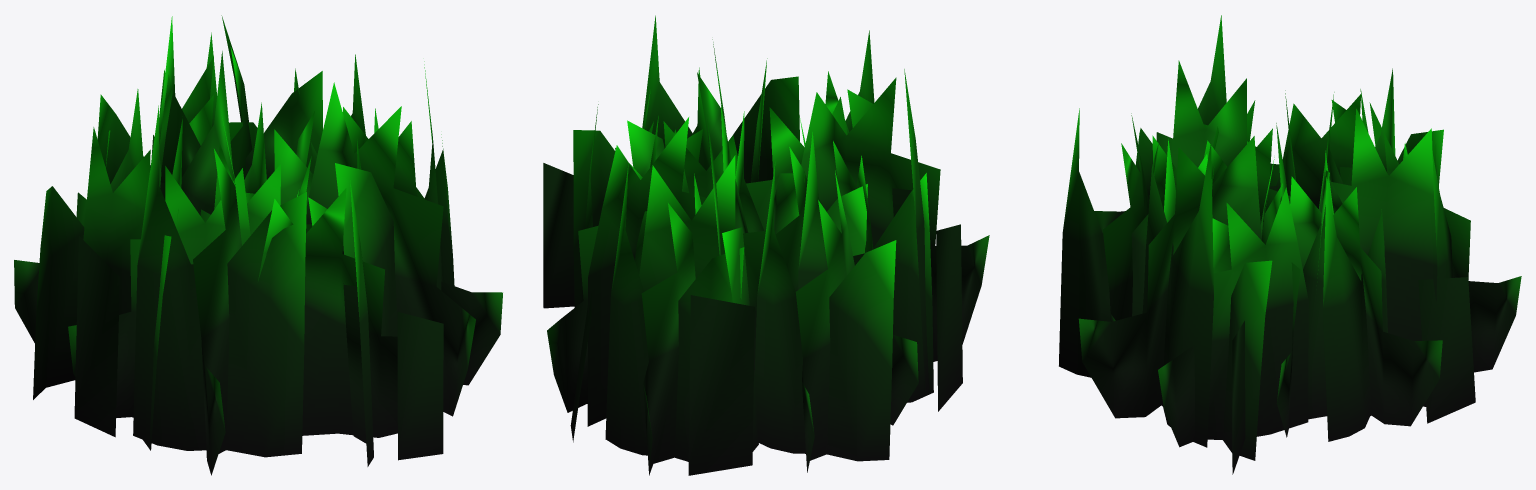
The model's file is Grass_Optimized.FBX.
3 renders of one model, left to right at view 1: azimuth 30°, elevation 25°; view 2: azimuth 150°, elevation 25°; view 3: azimuth 270°, elevation 25°, orthographic. The views are drawn at different scales.
Parts seen in each view (by area): view 1: Grass_Optimized_LOD0; view 2: Grass_Optimized_LOD0; view 3: Grass_Optimized_LOD0.
Part boxes in pixels (left/top/right/bottom): Grass_Optimized_LOD0: left=14, top=15, right=502, bottom=475; Grass_Optimized_LOD0: left=543, top=15, right=989, bottom=475; Grass_Optimized_LOD0: left=1059, top=15, right=1521, bottom=474.
Size of what is drawn, in the model's own units: 106 by 82.38 by 120.
